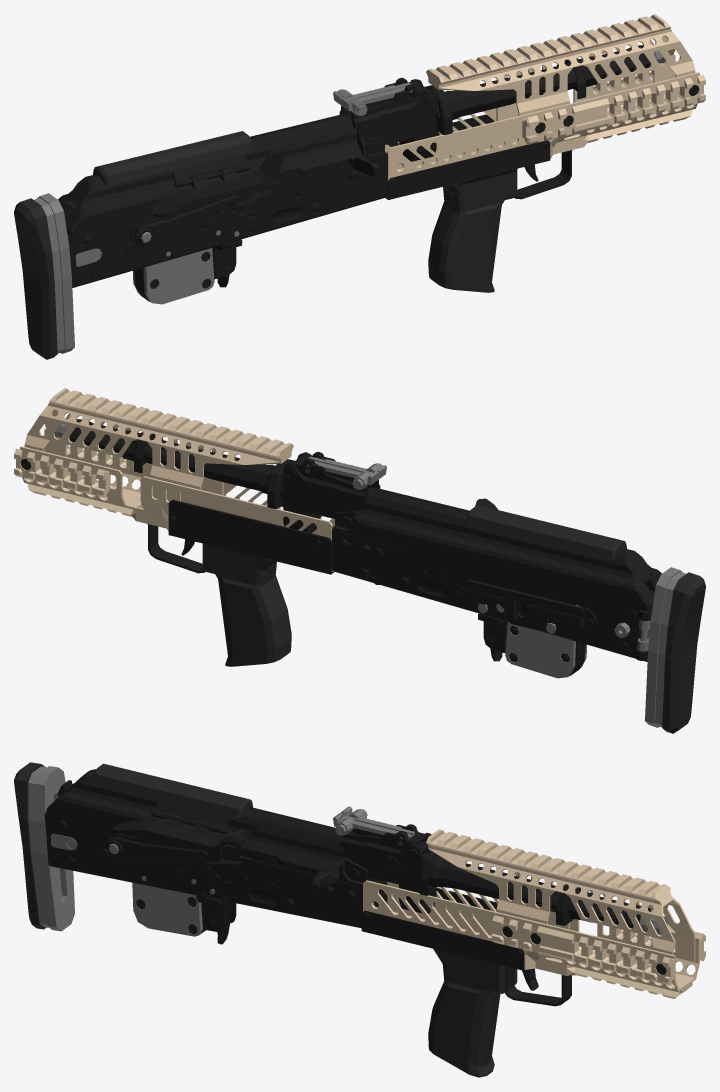
File: ak-104_kochevnik.glb
The picture shows the model from 3 angles, top to bottom: view 1: azimuth 30°, elevation 25°; view 2: azimuth 150°, elevation 25°; view 3: azimuth 330°, elevation 25°; orthographic projection.
Parts seen in each view (by area): view 1: kochevnik handguard_8 (×3), kochevnik receiver_3 (×3), kochevnik dust cover_6 (×2), kochevnik bolt_5, kochevnik selector_0; view 2: kochevnik handguard_8 (×3), kochevnik receiver_3 (×3), kochevnik dust cover_6 (×2); view 3: kochevnik handguard_8 (×3), kochevnik receiver_3 (×3), kochevnik dust cover_6 (×2), kochevnik bolt_5, kochevnik selector_0.
Boxes of the visible parts, bbox=[...] form: kochevnik handguard_8 (×3): bbox=[385, 14, 705, 292]; kochevnik receiver_3 (×3): bbox=[14, 45, 650, 359]; kochevnik dust cover_6 (×2): bbox=[58, 113, 353, 237]; kochevnik bolt_5: bbox=[266, 128, 379, 183]; kochevnik selector_0: bbox=[129, 184, 272, 248]; kochevnik handguard_8 (×3): bbox=[14, 388, 334, 666]; kochevnik receiver_3 (×3): bbox=[69, 419, 705, 733]; kochevnik dust cover_6 (×2): bbox=[356, 487, 661, 611]; kochevnik handguard_8 (×3): bbox=[361, 829, 705, 1077]; kochevnik receiver_3 (×3): bbox=[14, 762, 651, 936]; kochevnik dust cover_6 (×2): bbox=[47, 763, 355, 849]; kochevnik bolt_5: bbox=[226, 827, 343, 892]; kochevnik selector_0: bbox=[104, 833, 241, 866].
Size of the model in its own units: 5.34 by 1.74 by 0.6828.
